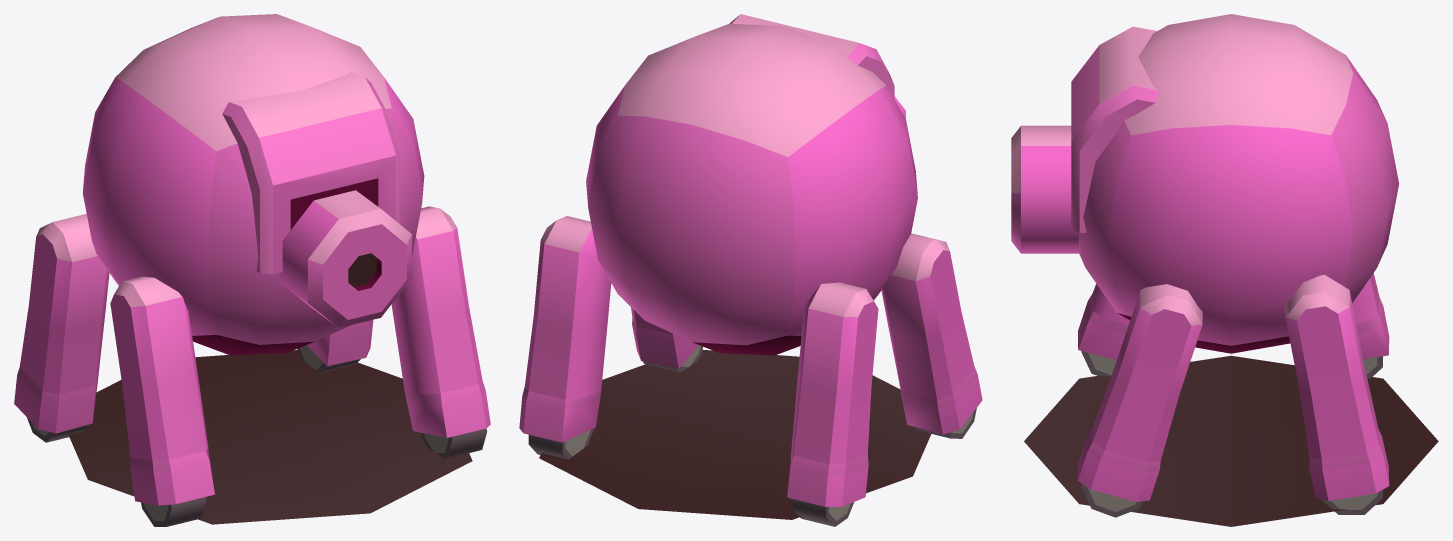
Rendered from NeoTankMesh.PinkCosmos.glb.
3 renders of one model, left to right at view 1: azimuth 30°, elevation 25°; view 2: azimuth 150°, elevation 25°; view 3: azimuth 270°, elevation 25°, orthographic. The views are drawn at different scales.
Visible parts, largest first — view 1: NeoTankMesh.PinkCosmos; view 2: NeoTankMesh.PinkCosmos; view 3: NeoTankMesh.PinkCosmos.
Part boxes in pixels (x1,y1,x2,y2): NeoTankMesh.PinkCosmos: [14, 14, 490, 526]; NeoTankMesh.PinkCosmos: [519, 14, 982, 526]; NeoTankMesh.PinkCosmos: [1011, 14, 1438, 526].
Size of the model in its own units: 2.03 by 2.26 by 2.14.
1 material, 1 textured.
